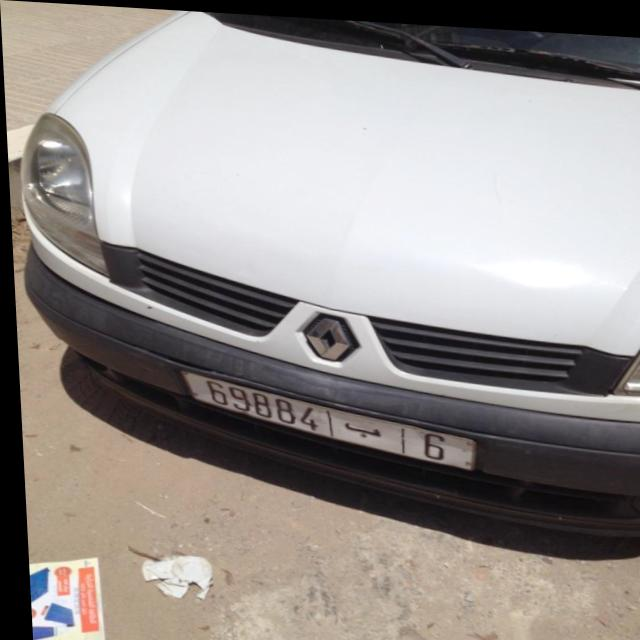License-Plate: (180, 371, 470, 464)
